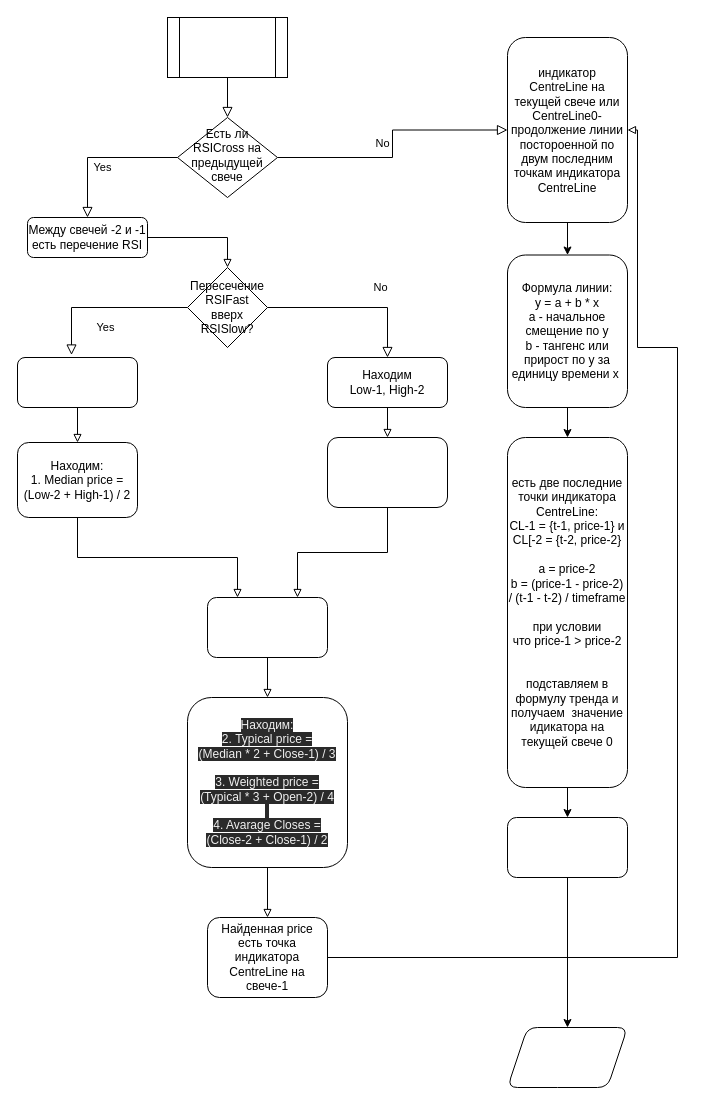
Some shapes in this 703 by 1105 pixel diagram are drawn without their labels. The shapes that lost their labels are listed below. From the top down, each one's centre as x and y in pixels, then its label:
the point at 227,47: New candle0
the point at 77,382: Находим Low-2, High-1
the point at 387,472: Находим: 1. Median price = (High-2 + Low-1) / 2
the point at 267,627: Находим: Close-1, Open-2, Close-2
the point at 567,847: возвращаем CentreLine0
